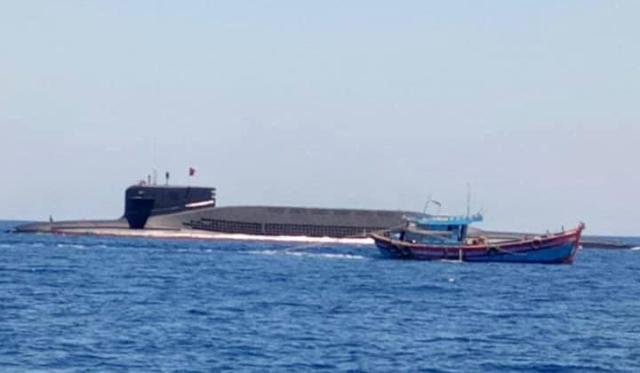otherboat: (368, 196, 590, 269)
